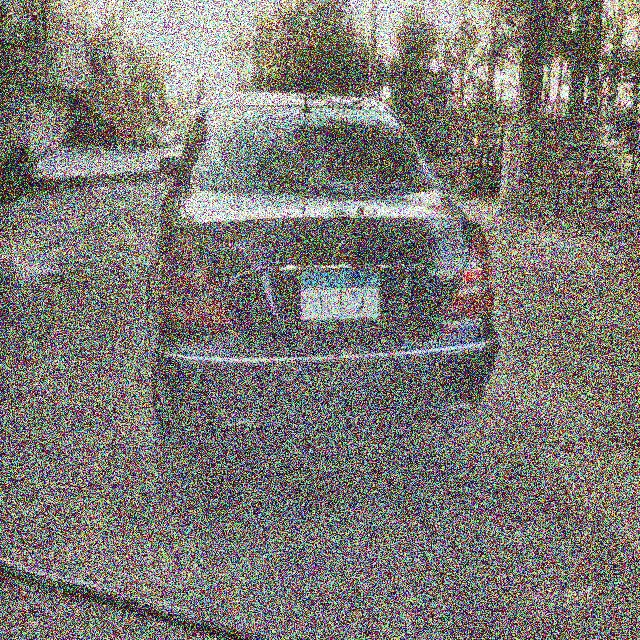License Plate: (297, 265, 381, 323)
